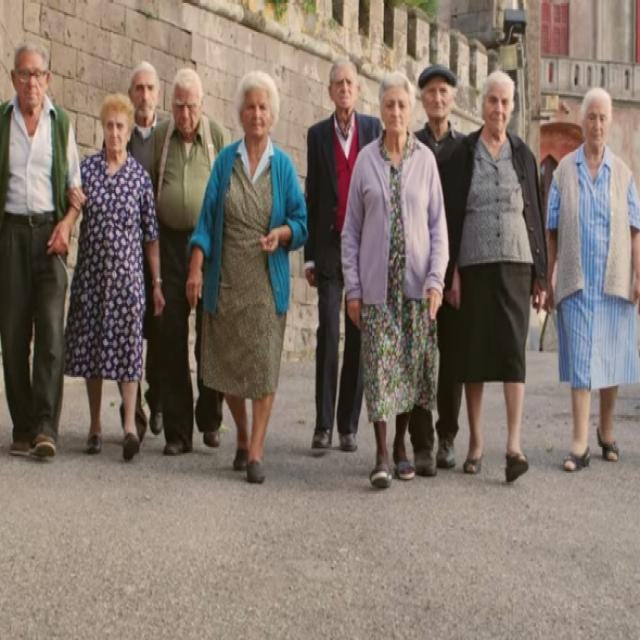body: (181, 67, 313, 489), (335, 65, 455, 494), (438, 65, 549, 488), (61, 86, 170, 466), (540, 82, 639, 479), (0, 35, 87, 467), (145, 64, 229, 462), (302, 58, 384, 453), (410, 61, 466, 471), (115, 58, 171, 450)
